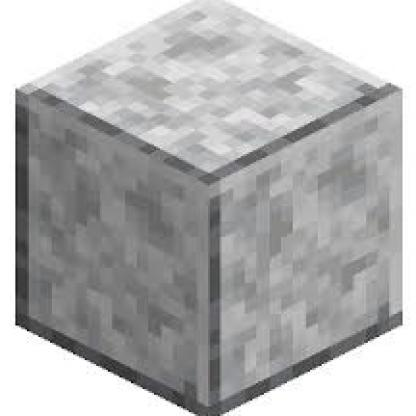Igneous_Diorite: (14, 0, 412, 414)
